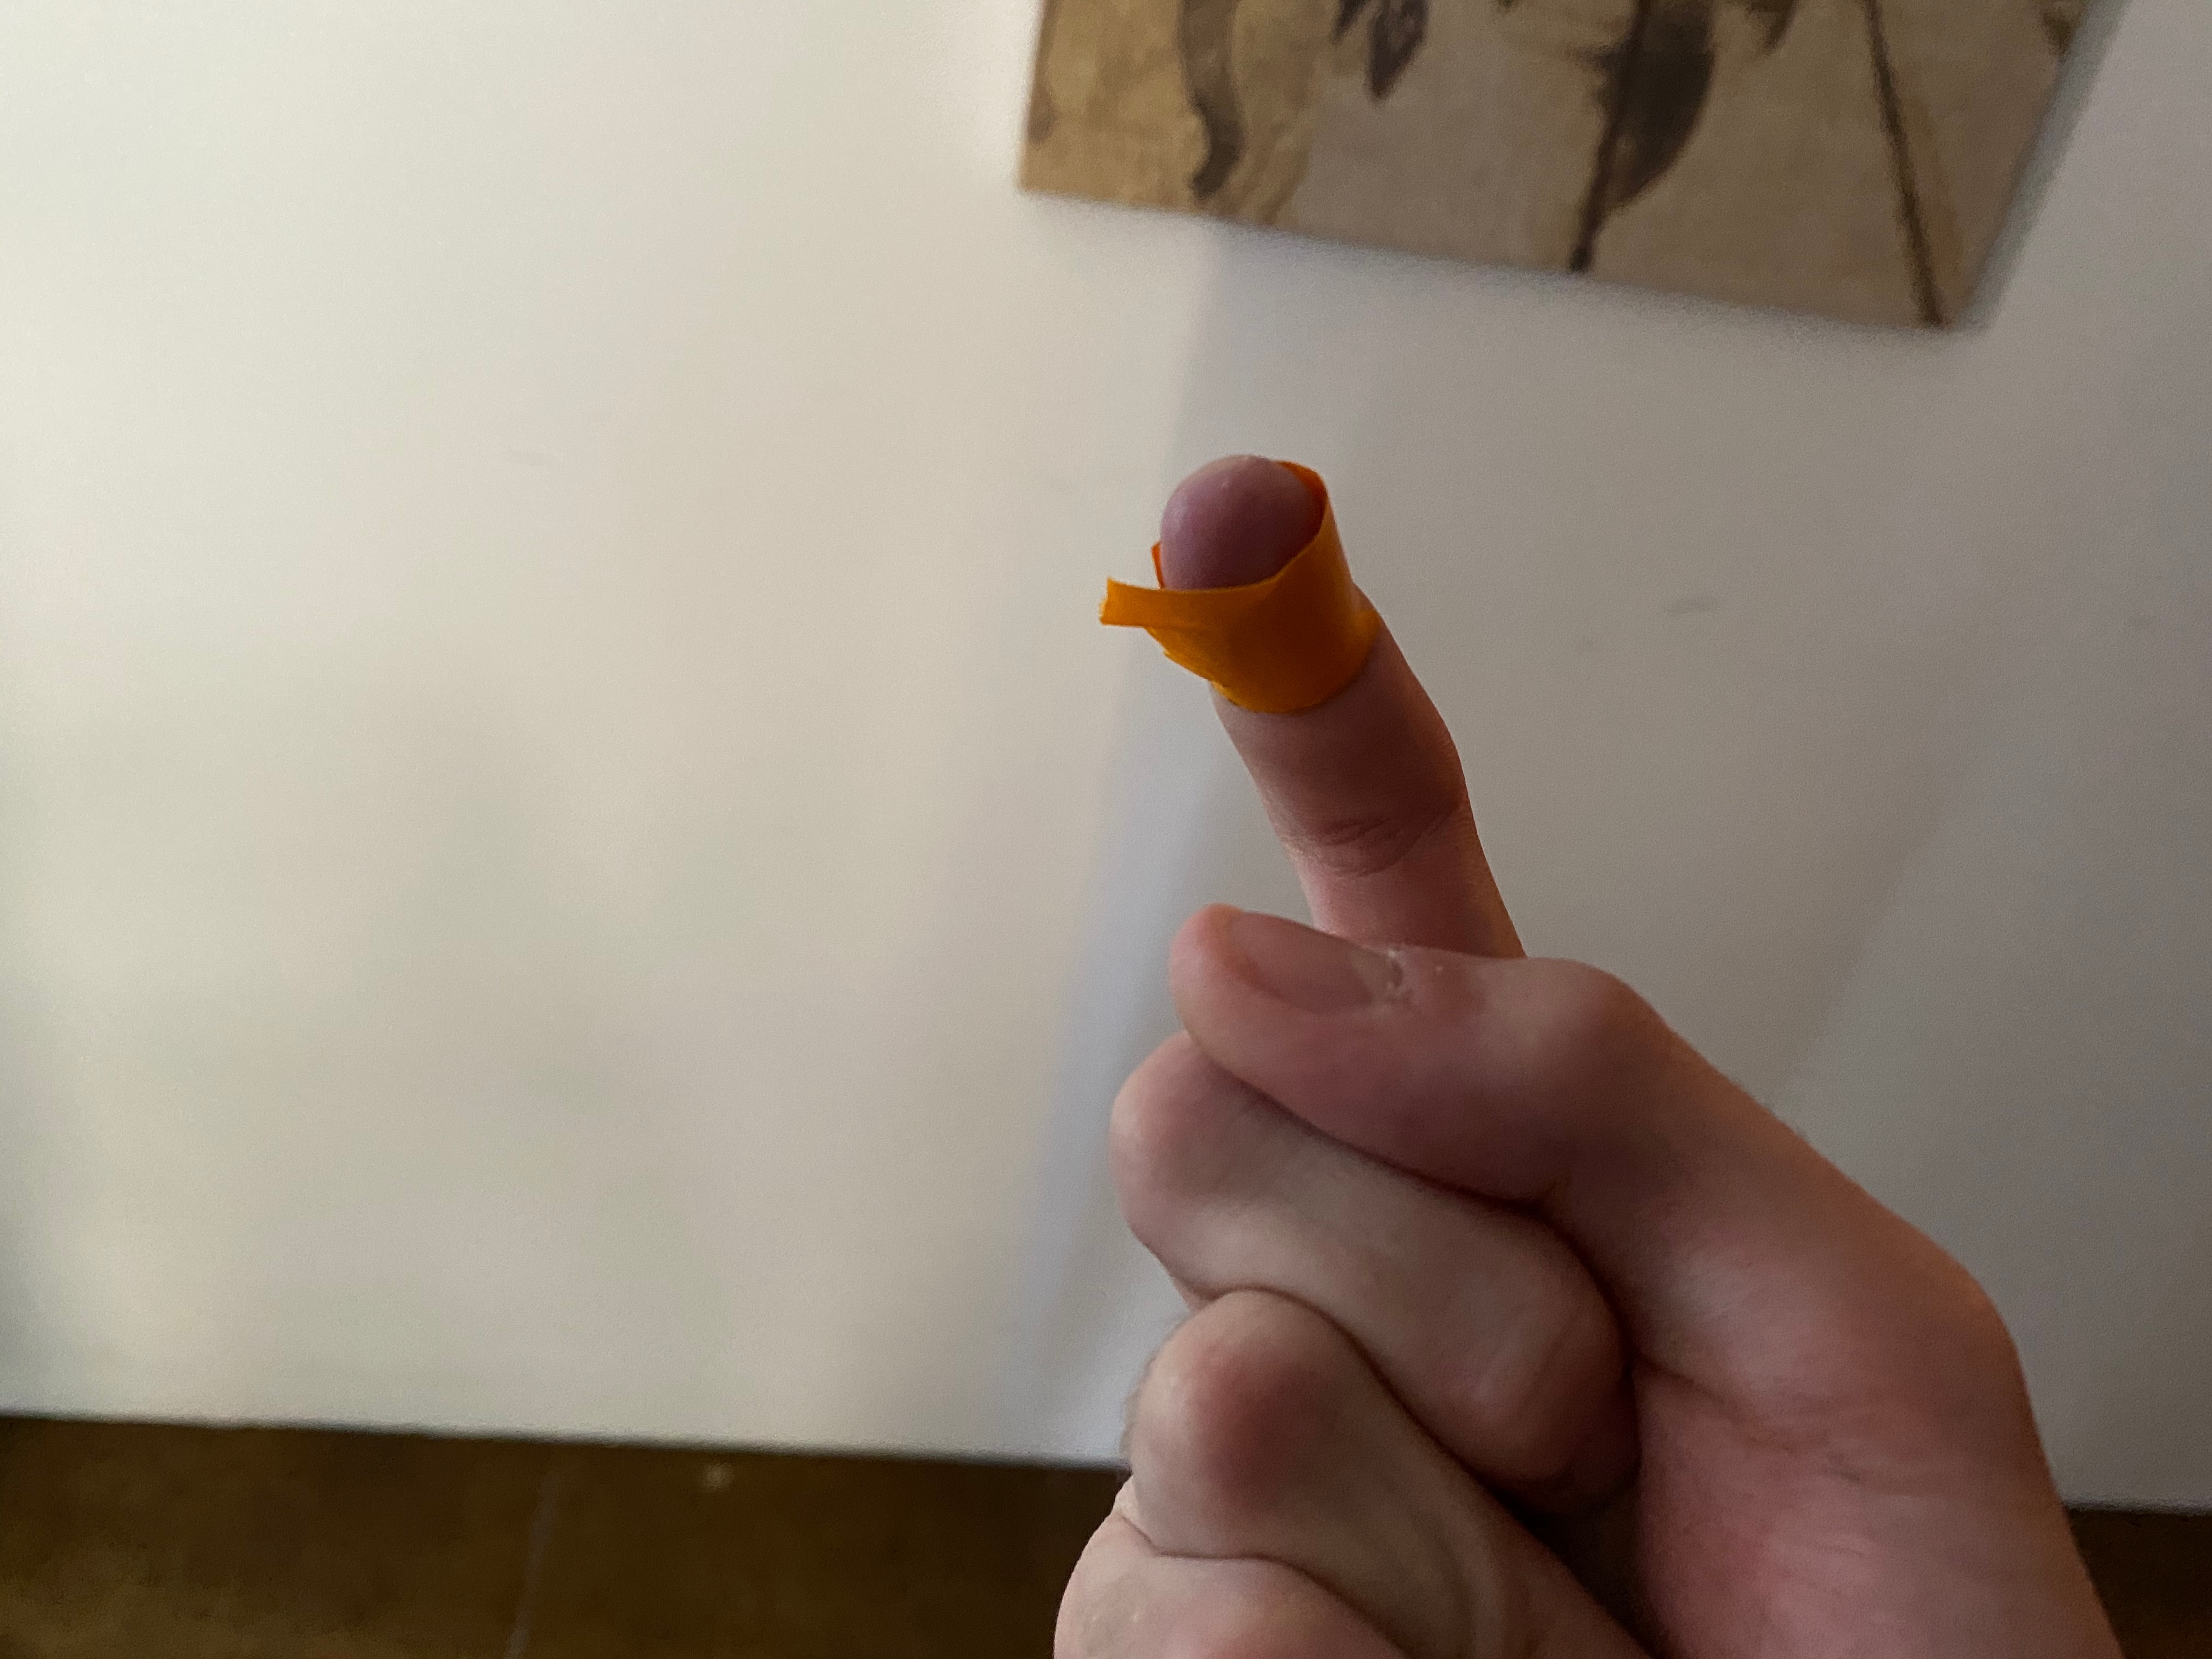fingertip: (1080, 425, 1493, 777)
